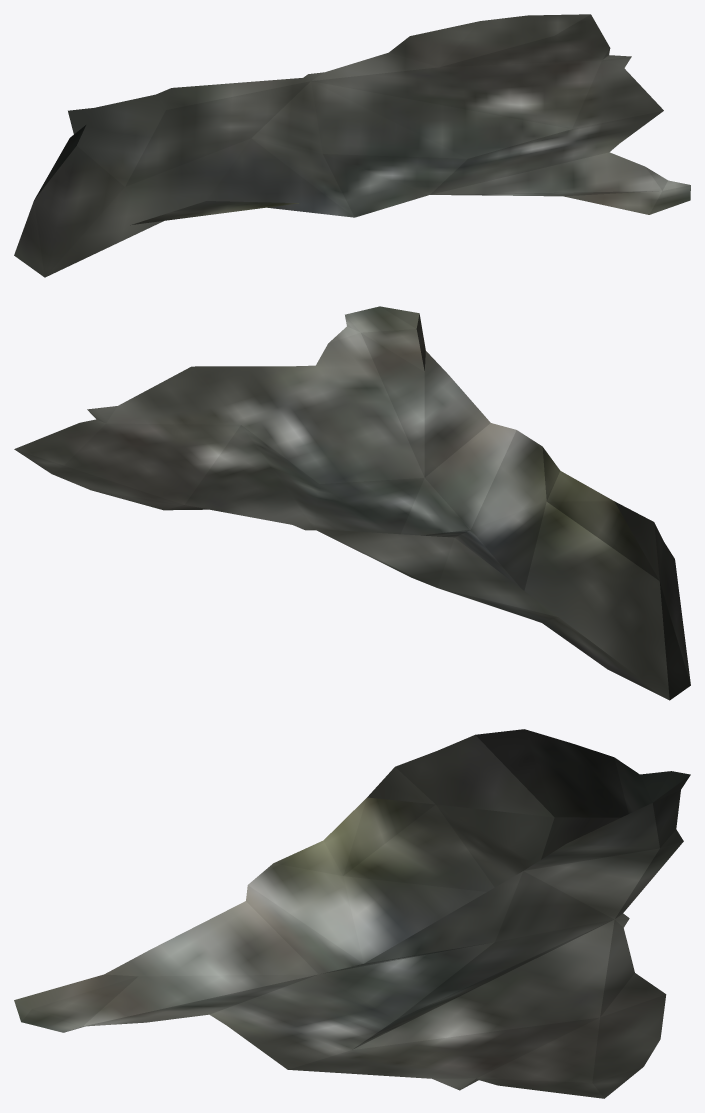
3 views of the same model, one above another, from view 1: azimuth 30°, elevation 25°; view 2: azimuth 150°, elevation 25°; view 3: azimuth 270°, elevation 25° (orthographic). The views are drawn at different scales.
Size of the model in its own units: 11.48 by 1.96 by 8.35.
Materials: 1 (1 with a texture image).
